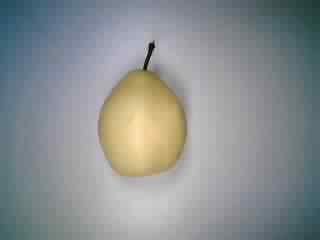pear: (88, 35, 196, 186)
